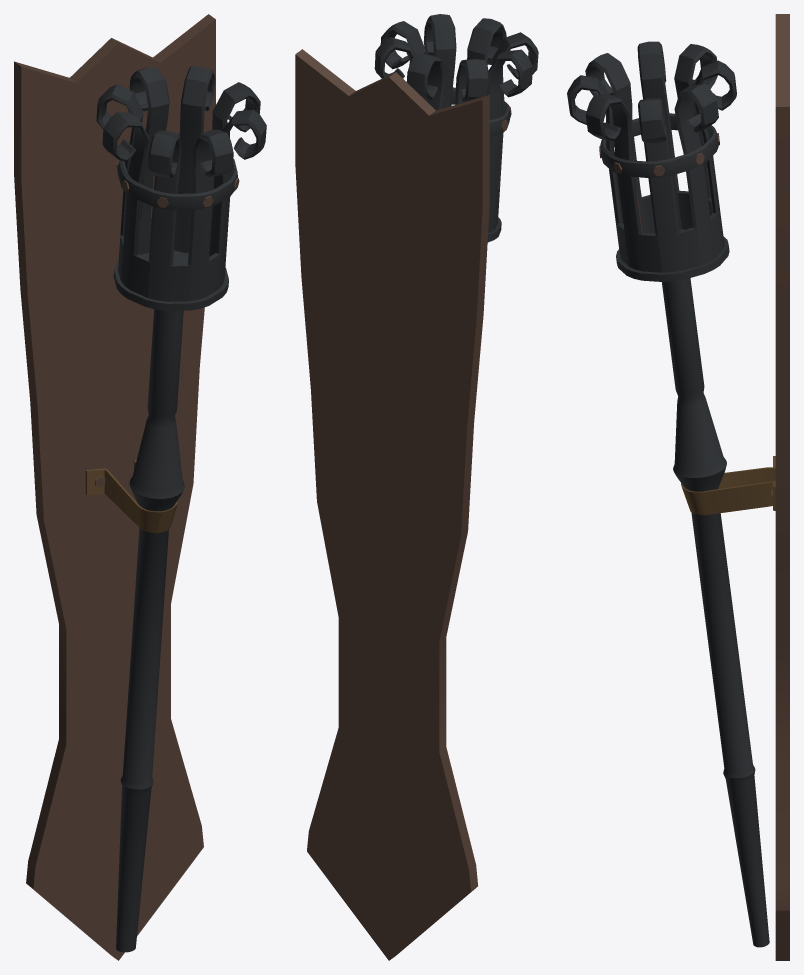
Rendered from Torch.fbx.
3 views of the same model, side by side, from view 1: azimuth 30°, elevation 25°; view 2: azimuth 150°, elevation 25°; view 3: azimuth 270°, elevation 25° (orthographic). The views are drawn at different scales.
Parts seen in each view (by area): view 1: Torch; view 2: Torch; view 3: Torch.
Boxes of the visible parts, x1=… form: Torch: x1=14, y1=14, x2=266, y2=960; Torch: x1=295, y1=14, x2=538, y2=960; Torch: x1=567, y1=14, x2=789, y2=960.
Size of the model in its own units: 33.64 by 152 by 34.05.
